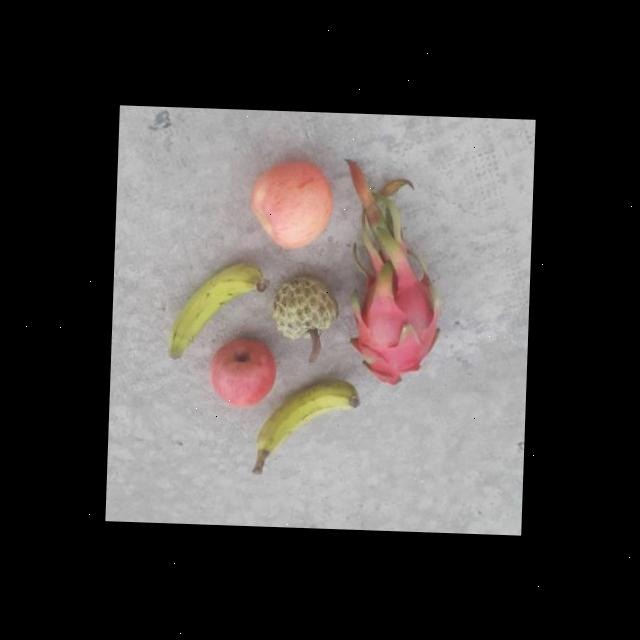Sakya fruit: (272, 270, 338, 344)
apple: (252, 160, 341, 256), (202, 337, 282, 412)
banana: (164, 258, 264, 364), (258, 372, 358, 464)
pitaya: (346, 260, 442, 387)
